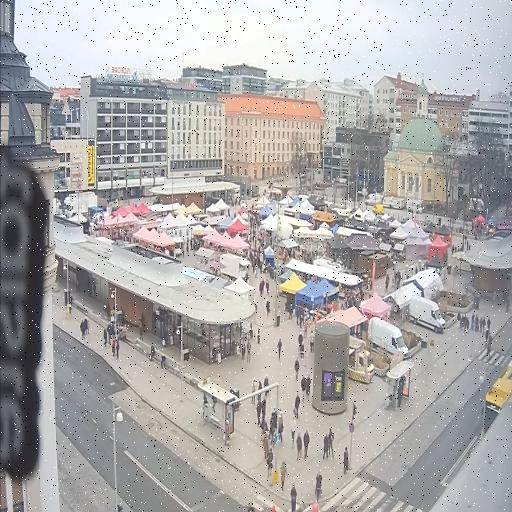Bus: (484, 363, 511, 431)
Delivery: (368, 317, 407, 359), (408, 297, 444, 332), (348, 336, 373, 383)
